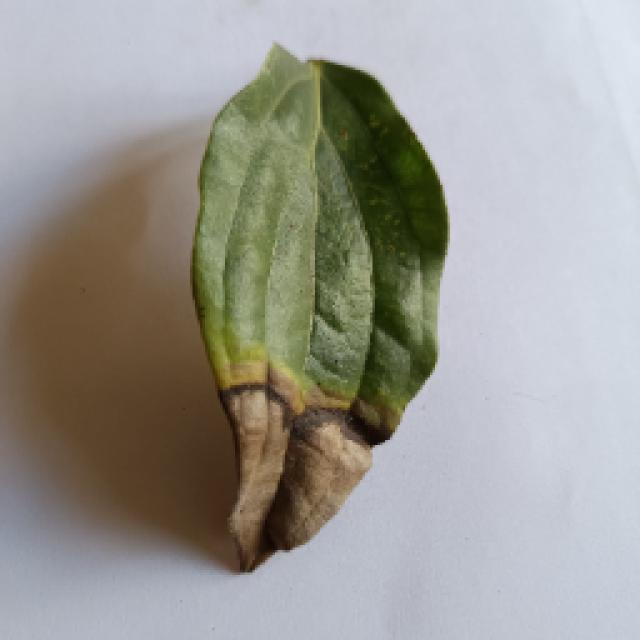footrot: (185, 43, 453, 575)
